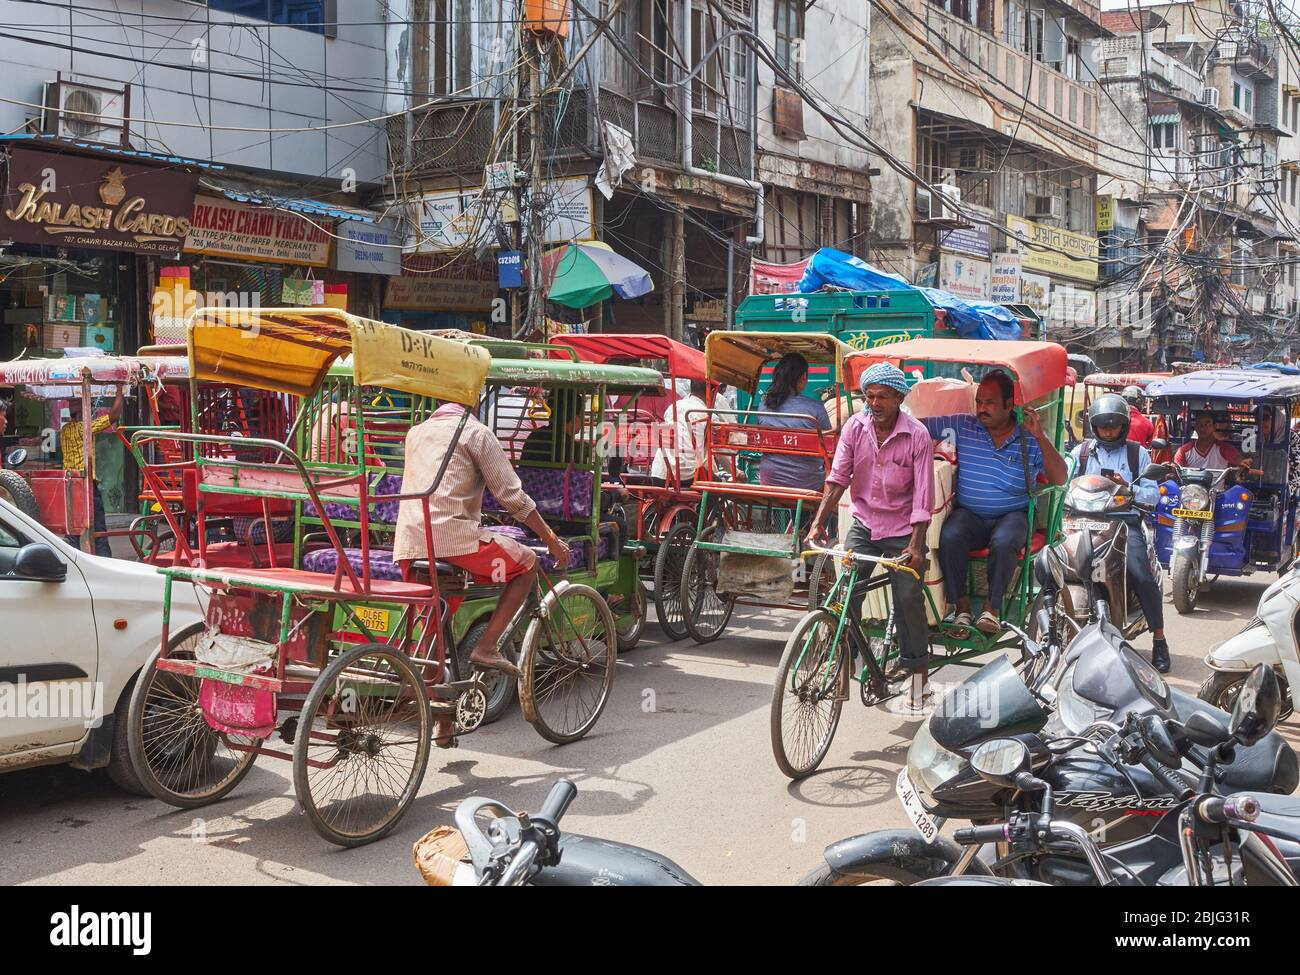bike: (805, 661, 1299, 909), (1057, 395, 1172, 676)
person: (398, 393, 572, 681), (824, 366, 934, 736), (944, 376, 1040, 642)
